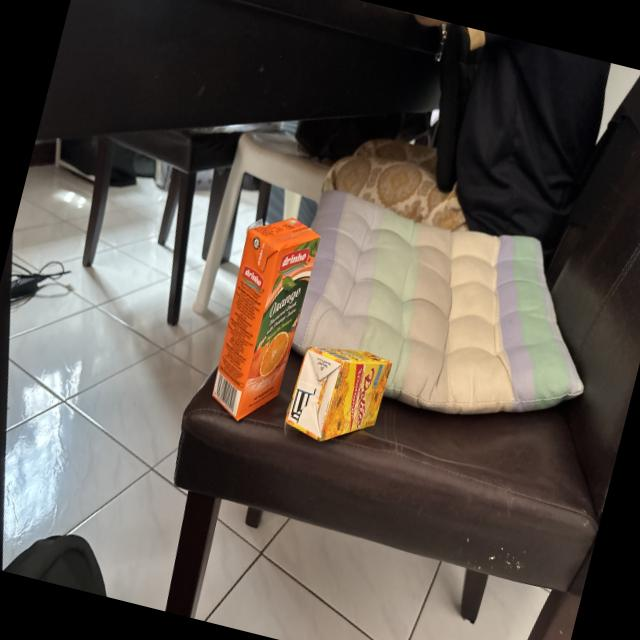drink_carton: (191, 194, 330, 436), (277, 322, 403, 460)
